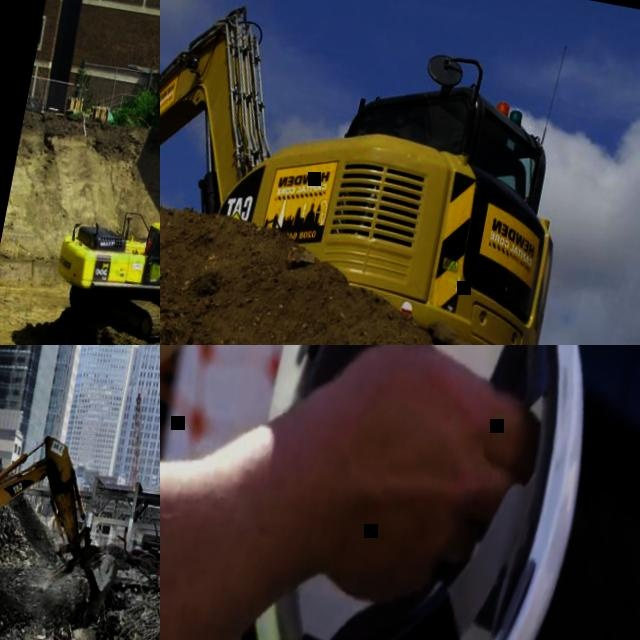Hardhat: (219, 345, 640, 640)
Person: (160, 345, 607, 640)
machinery: (160, 0, 591, 345), (0, 402, 138, 640), (43, 105, 160, 345)
